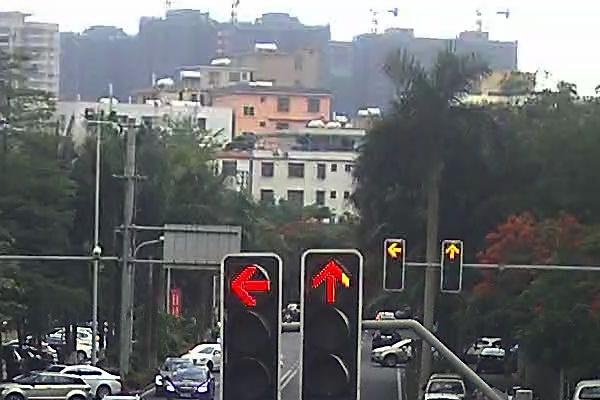redleft: (221, 257, 281, 307), (384, 239, 404, 260)
redstraight: (304, 251, 362, 306), (444, 240, 463, 262)
